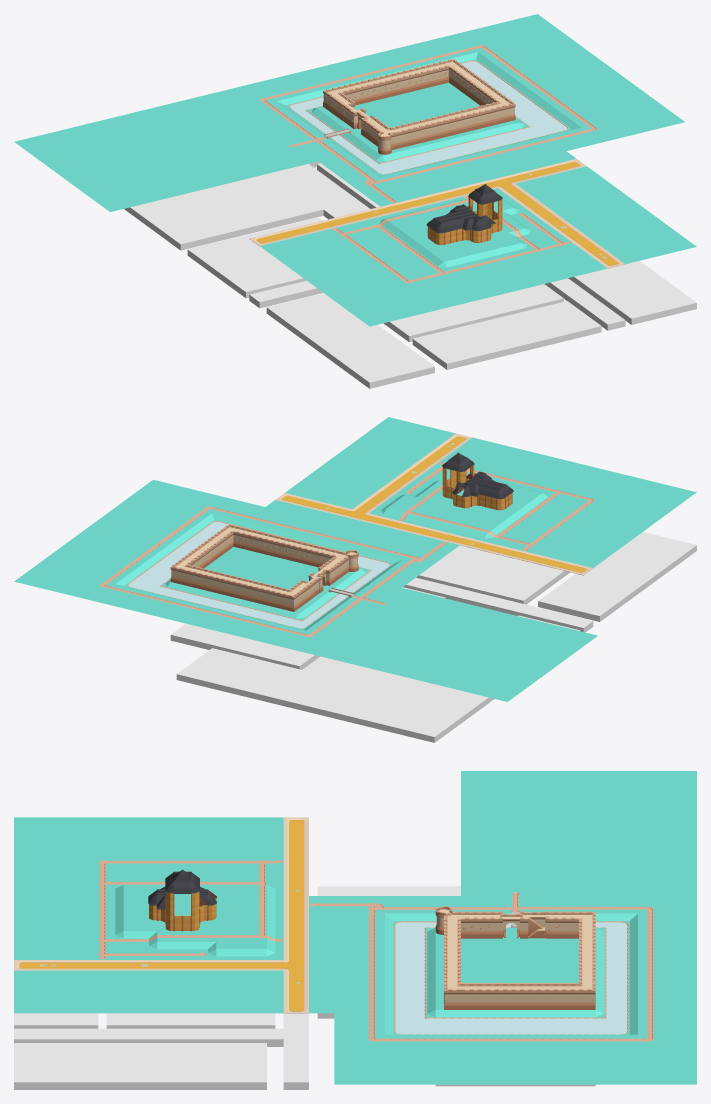
Rendered from level2_3D-v2.gltf.
3 views of the same model, one above another, from view 1: azimuth 30°, elevation 25°; view 2: azimuth 150°, elevation 25°; view 3: azimuth 270°, elevation 25° (orthographic). The views are drawn at different scales.
Visible parts, largest first — view 1: CSGPolygon3D72, CSGPolygon3D52, CSGPolygon3D32, CSGPolygon3D42, CSGPolygon3D62, CSGPolygon3D2, CSGPolygon3D23, CSGPolygon3D82; view 2: CSGPolygon3D72, CSGPolygon3D52, CSGPolygon3D2, CSGPolygon3D82, CSGPolygon3D23; view 3: CSGPolygon3D42, CSGPolygon3D23, CSGPolygon3D2, CSGPolygon3D62, CSGPolygon3D32, wall46, wall31, wall32, wall33, wall34.
Boxes of the visible parts, x1=… form: CSGPolygon3D72: x1=124, y1=161, x2=369, y2=250; CSGPolygon3D52: x1=266, y1=293, x2=434, y2=388; CSGPolygon3D32: x1=412, y1=301, x2=601, y2=369; CSGPolygon3D42: x1=568, y1=261, x2=696, y2=324; CSGPolygon3D62: x1=187, y1=217, x2=322, y2=298; CSGPolygon3D2: x1=383, y1=284, x2=563, y2=342; CSGPolygon3D23: x1=249, y1=278, x2=625, y2=330; CSGPolygon3D82: x1=317, y1=163, x2=379, y2=208; CSGPolygon3D72: x1=176, y1=587, x2=494, y2=742; CSGPolygon3D52: x1=538, y1=532, x2=696, y2=621; CSGPolygon3D2: x1=416, y1=545, x2=569, y2=604; CSGPolygon3D82: x1=170, y1=623, x2=319, y2=669; CSGPolygon3D23: x1=403, y1=577, x2=593, y2=632; CSGPolygon3D42: x1=14, y1=1043, x2=266, y2=1089; CSGPolygon3D23: x1=14, y1=1013, x2=308, y2=1089; CSGPolygon3D2: x1=106, y1=1013, x2=275, y2=1028; CSGPolygon3D62: x1=317, y1=886, x2=460, y2=895; CSGPolygon3D32: x1=14, y1=1013, x2=98, y2=1028; wall46: x1=477, y1=911, x2=494, y2=938; wall31: x1=528, y1=982, x2=545, y2=1009; wall32: x1=511, y1=982, x2=528, y2=1009; wall33: x1=494, y1=982, x2=511, y2=1009; wall34: x1=477, y1=982, x2=494, y2=1009.
Bounding box in the file's own units: 88 × 17.64 × 81.
72 materials, 18 textured.
